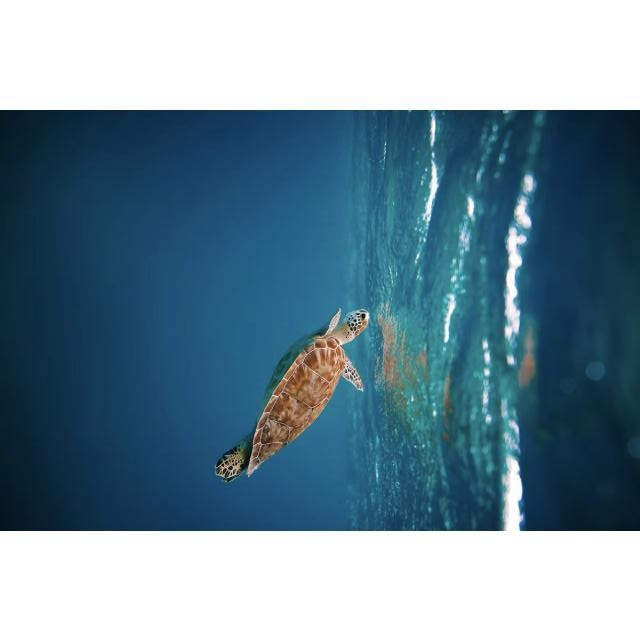turtle: (212, 305, 370, 484)
